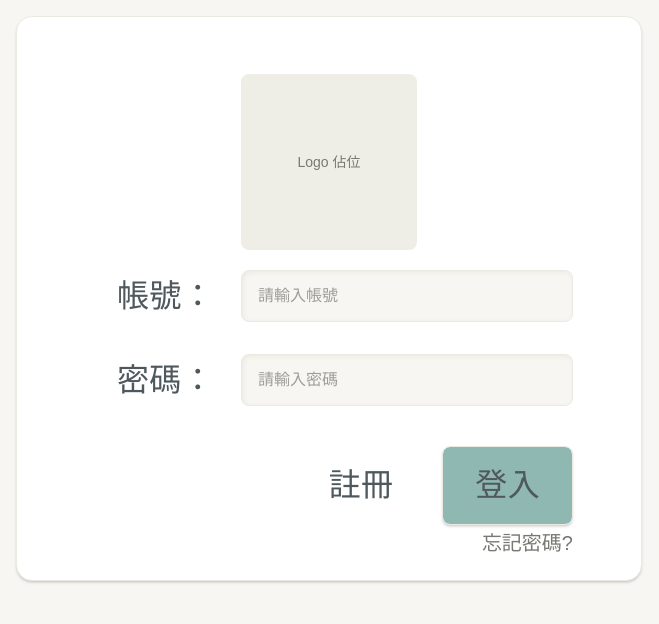
it: LoginView › 帳號密碼錯誤時,畫面要顯示錯誤訊息
This screenshot has width=659, height=624.
Type "wrong" into the field with placeholder "請輸入帳號" at (407, 296), box [241,270,573,322]
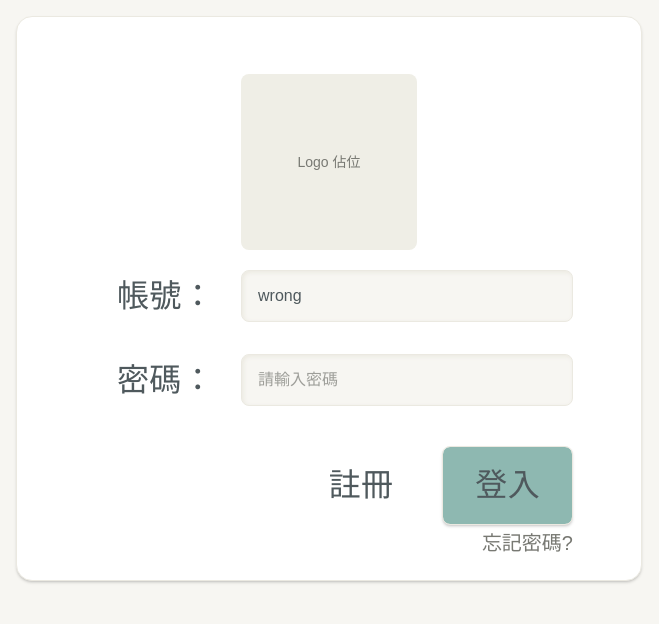
Type "wrong" into the password field with placeholder "請輸入密碼" at (407, 380), box [241,354,573,406]
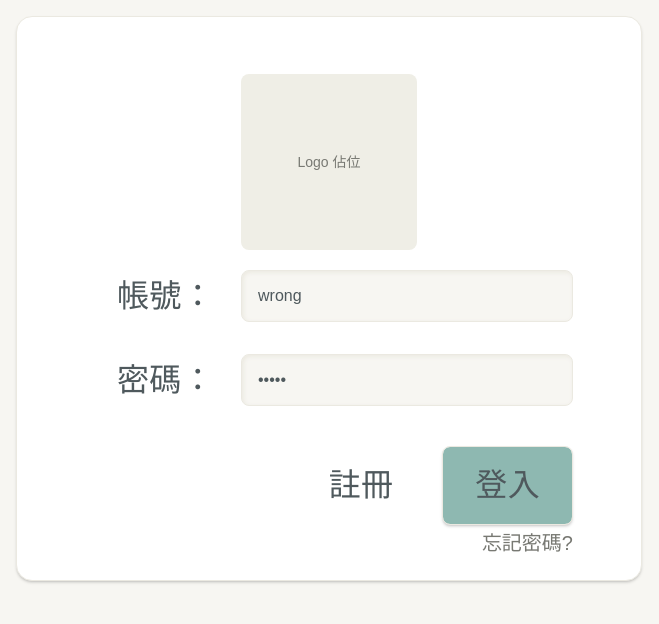
Submit the form, box [85,270,573,553]
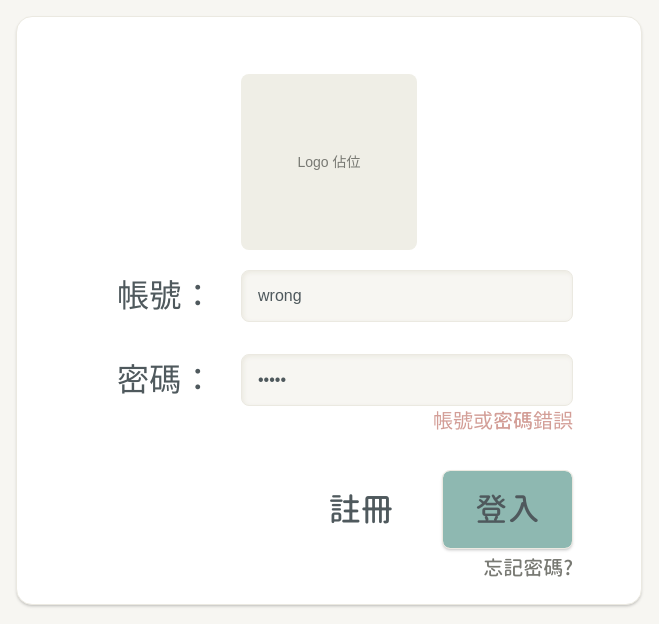
Expected: the text "帳號或密碼錯誤" is shown, [433,406,573,434]
